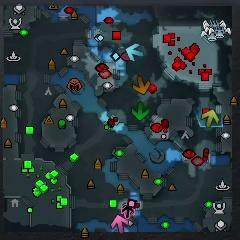x1: (111, 216, 129, 234)
x1Clone: (121, 203, 135, 219)
x2: (201, 110, 220, 127)
x3: (125, 43, 143, 61)
x4: (132, 101, 149, 121)
x5: (132, 76, 149, 96)
